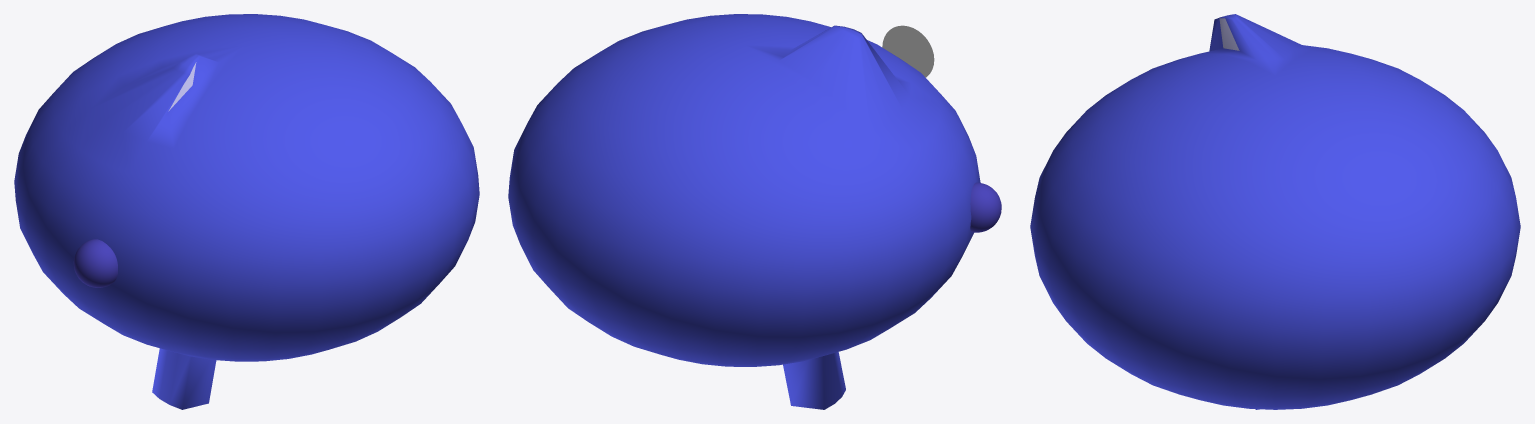
Rendered from blob.glb.
3 renders of one model, left to right at view 1: azimuth 30°, elevation 25°; view 2: azimuth 150°, elevation 25°; view 3: azimuth 270°, elevation 25°, orthographic. The views are drawn at different scales.
Parts seen in each view (by area): view 1: Slime, hands; view 2: Slime, Circle, hands; view 3: Slime.
Boxes of the visible parts, left/top/right/bottom form: Slime: left=14, top=14, right=479, bottom=409; hands: left=73, top=239, right=117, bottom=287; Slime: left=508, top=14, right=980, bottom=409; Circle: left=882, top=25, right=934, bottom=77; hands: left=970, top=182, right=1001, bottom=232; Slime: left=1030, top=14, right=1520, bottom=409.
Size of the model in its own units: 2.04 by 1.71 by 2.
